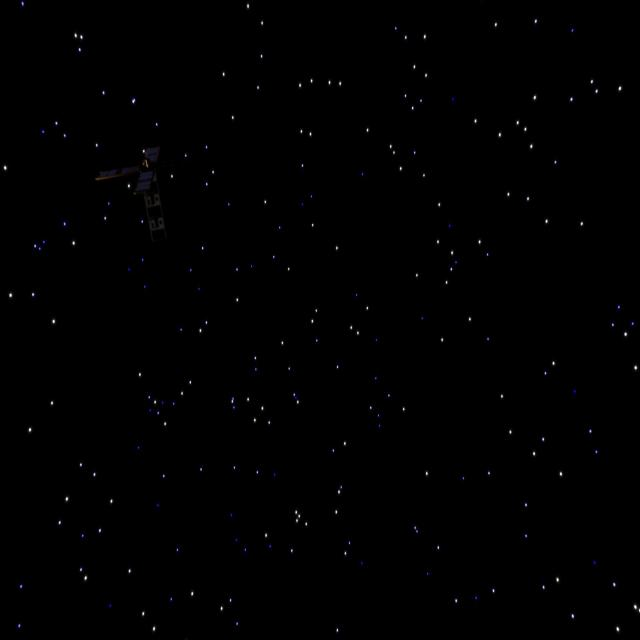medium_debris: (91, 134, 198, 237)
